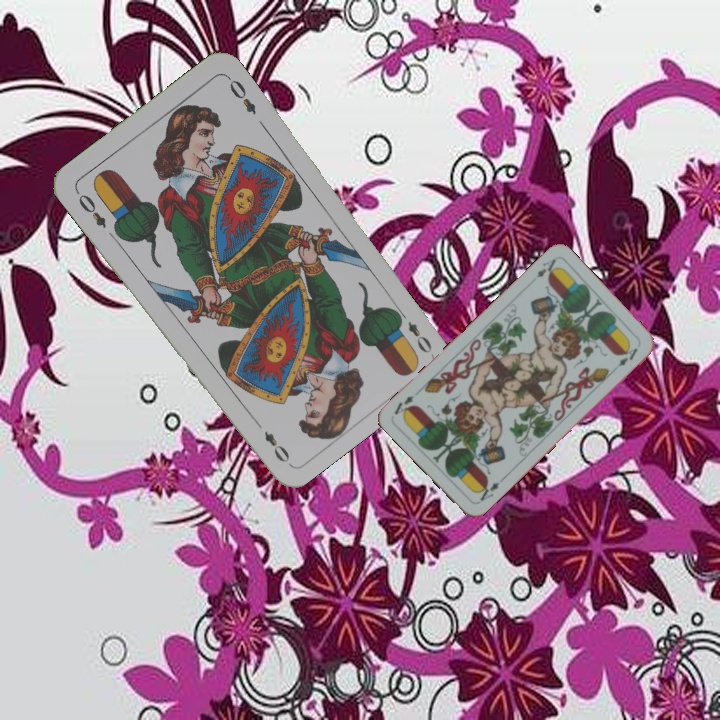EA: (473, 474, 507, 504), (532, 255, 560, 281)
EO: (393, 305, 435, 356), (71, 186, 109, 231)
